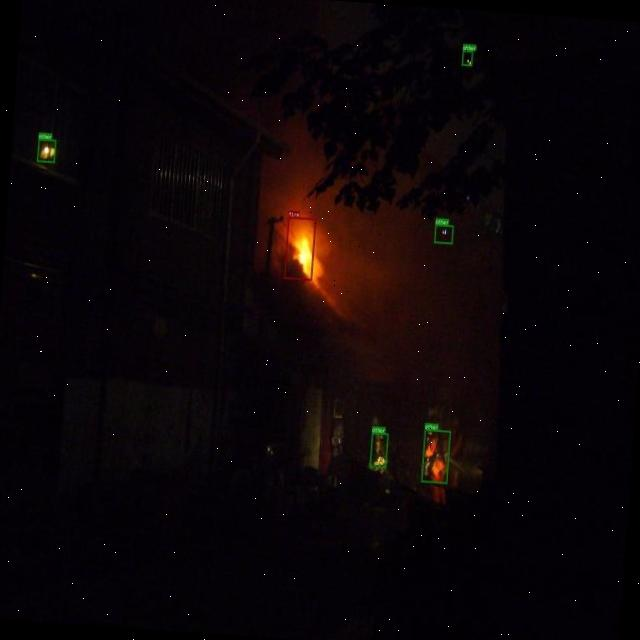fire: (284, 217, 316, 280)
